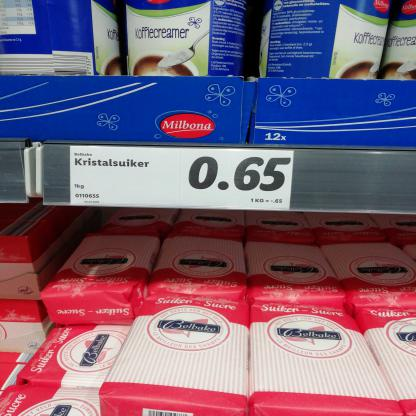prtg: (71, 147, 295, 211)
